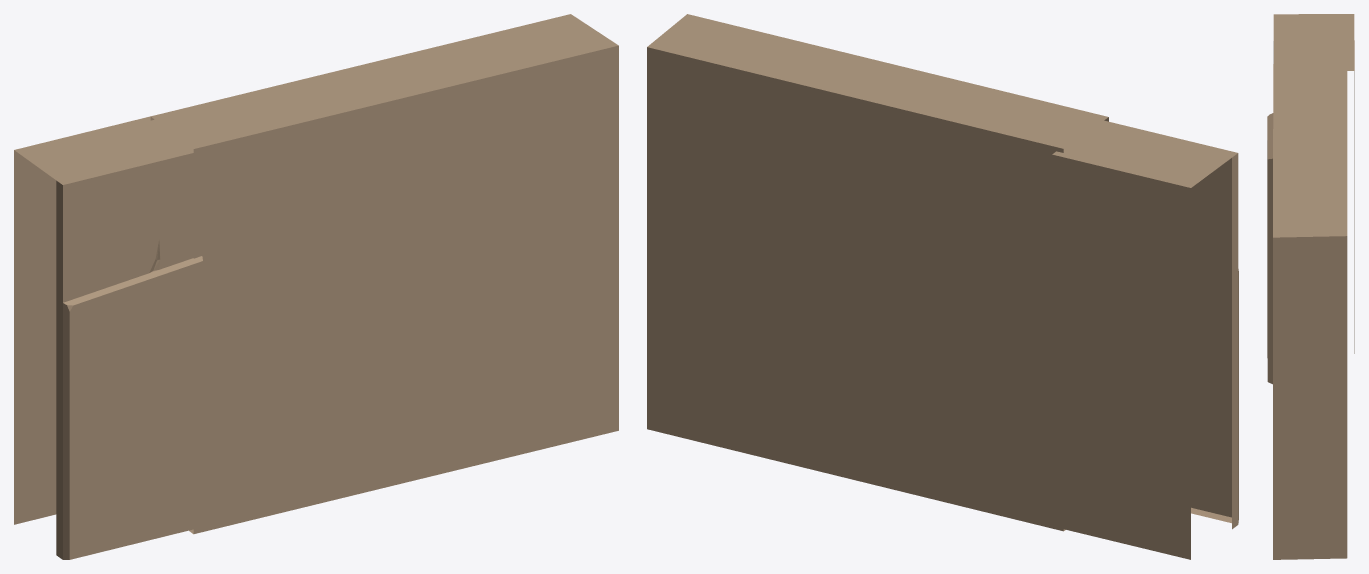
Rendered from wall2.FBX.
3 views of the same model, side by side, from view 1: azimuth 30°, elevation 25°; view 2: azimuth 150°, elevation 25°; view 3: azimuth 270°, elevation 25° (orthographic). The views are drawn at different scales.
Visible parts, largest first — view 1: Object582; view 2: Object582; view 3: Object582.
Part boxes in pixels (bbox=[...]): Object582: bbox=[14, 14, 618, 559]; Object582: bbox=[647, 14, 1238, 559]; Object582: bbox=[1267, 14, 1354, 559].
Size of the model in its own units: 72.25 by 47.85 by 11.78.
